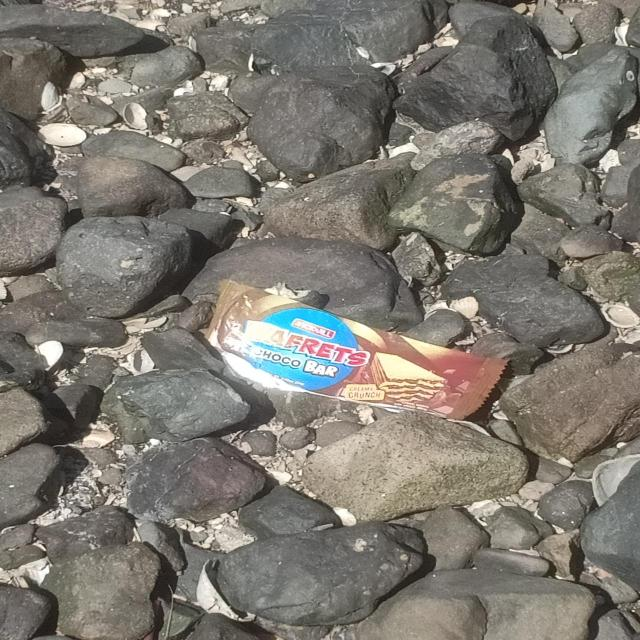plastic_waste: (205, 279, 513, 422)
